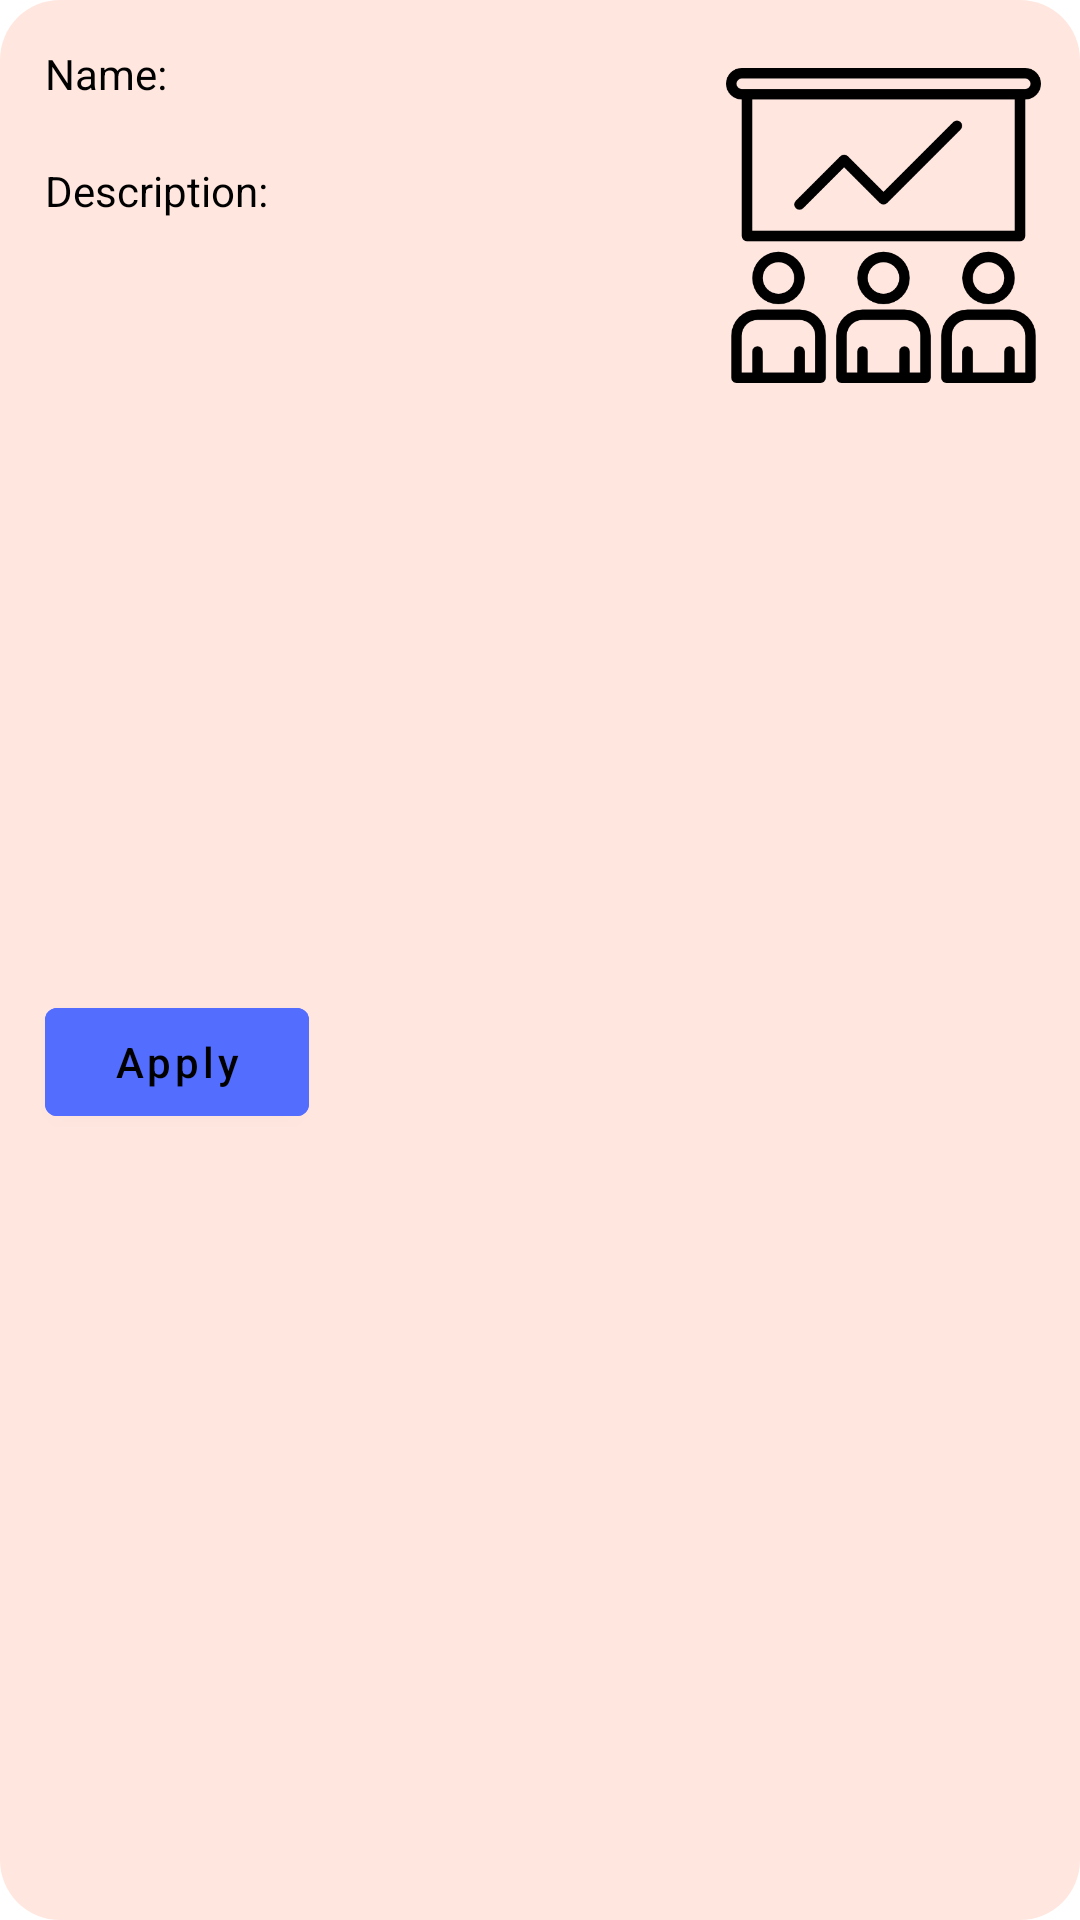

Icons on this 1080px×1920px Android screen, each with its box as (x1,y1,x2,y2):
presentation: (726,68,1041,383)
